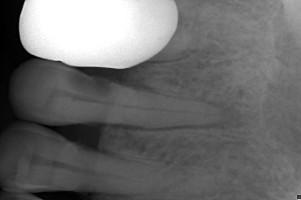Furcation Involvement: (191, 103, 246, 129)
